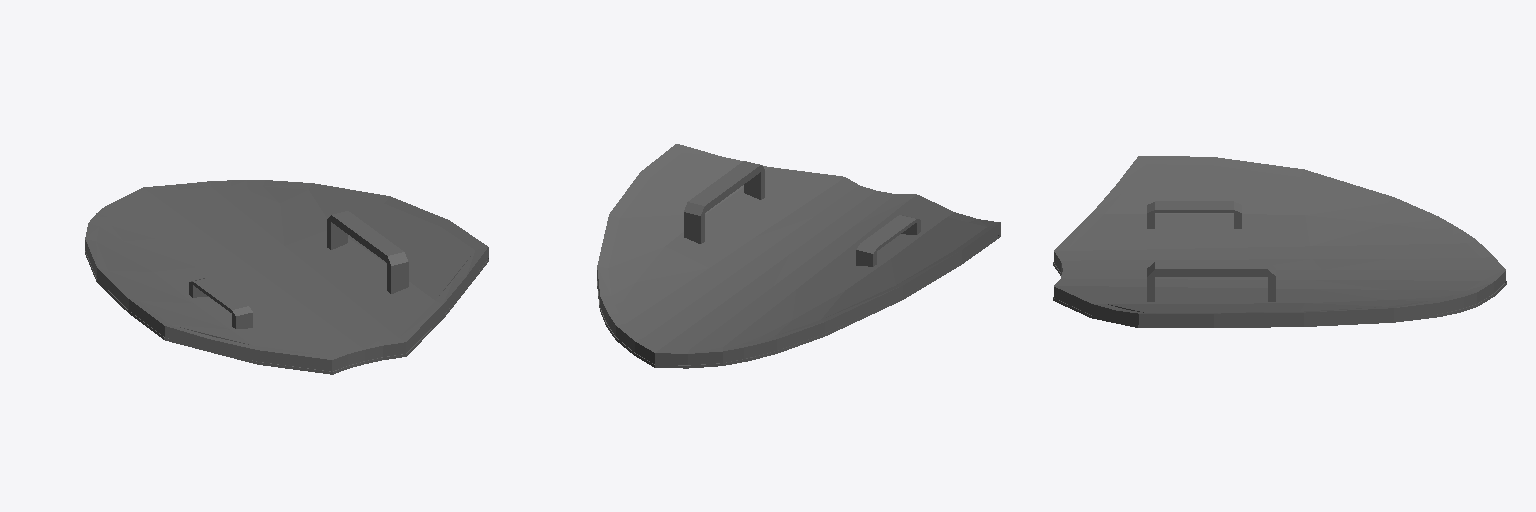
The model's file is shield.obj.
The picture shows the model from 3 angles: view 1: azimuth 30°, elevation 25°; view 2: azimuth 150°, elevation 25°; view 3: azimuth 270°, elevation 25°; orthographic projection.
Visible parts, largest first — view 1: free3d_longsword_shield; view 2: free3d_longsword_shield; view 3: free3d_longsword_shield.
Part boxes in pixels (x1,y1,x2,y2): free3d_longsword_shield: (85, 180, 488, 374); free3d_longsword_shield: (597, 144, 1000, 368); free3d_longsword_shield: (1053, 156, 1506, 327).
Size of the model in its own units: 54.71 by 9.22 by 66.2.